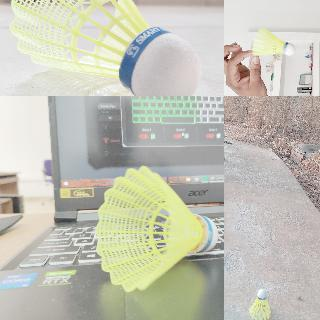shuttlecock: (8, 0, 200, 95), (94, 165, 218, 291), (252, 28, 296, 58), (249, 289, 272, 319), (224, 152, 227, 160)
